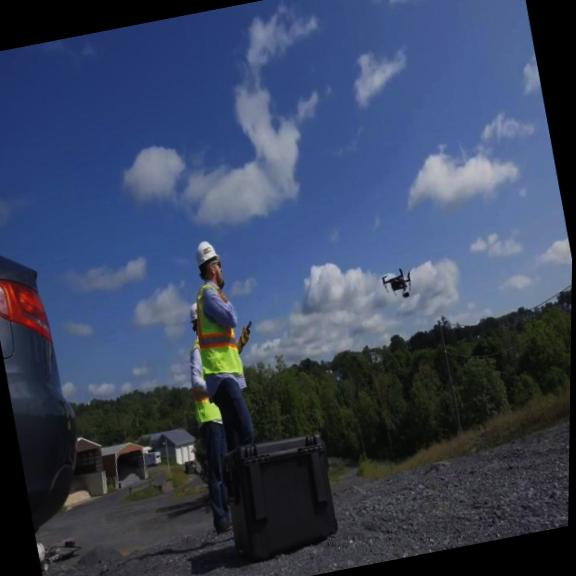safety_vest: (186, 282, 247, 380), (181, 338, 224, 422)
